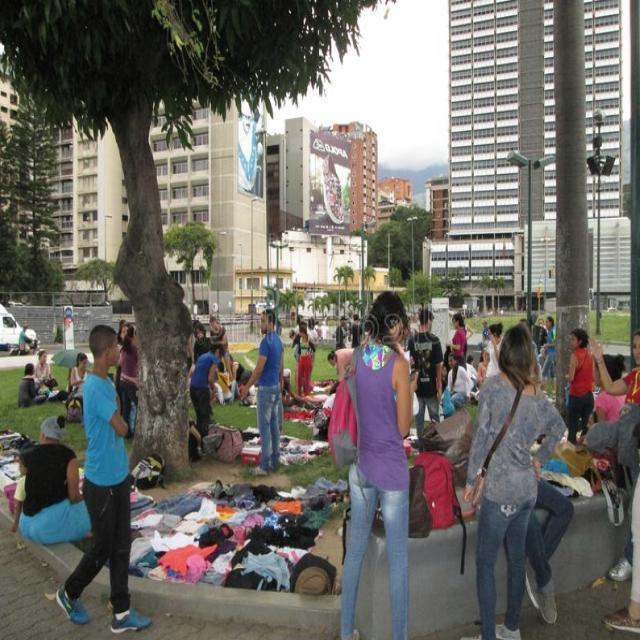clothes: (170, 496, 294, 574)
